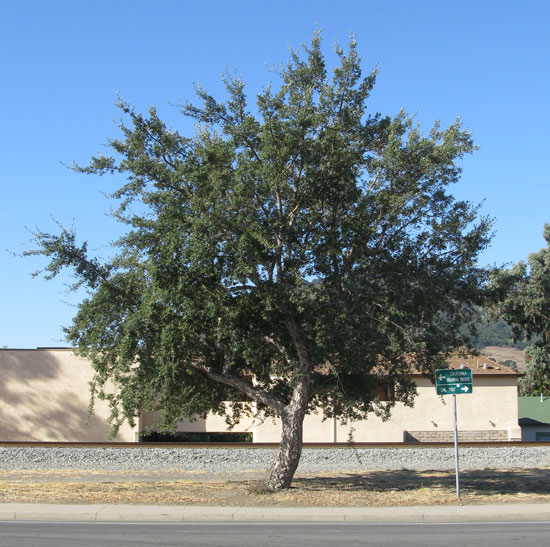tree: (5, 16, 513, 493)
